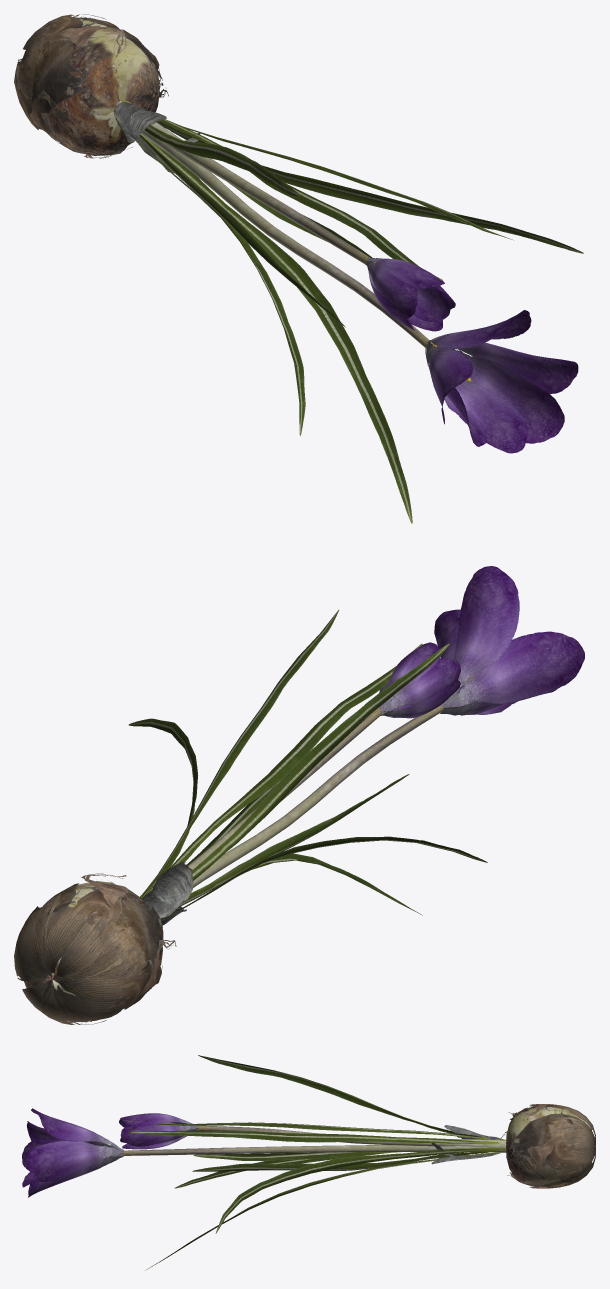
The picture shows the model from 3 angles, top to bottom: view 1: azimuth 30°, elevation 25°; view 2: azimuth 150°, elevation 25°; view 3: azimuth 270°, elevation 25°; orthographic projection. The views are drawn at different scales.
Visible parts, largest first — view 1: FL43Petal1, FL43Leaf2, FL43Roots1, FL43Branch1, FL43Leaf5, FL43Leaf6, FL43Leaf4; view 2: FL43Petal1, FL43Leaf2, FL43Leaf6, FL43Leaf5, FL43Branch1, FL43Leaf4, FL43Roots1; view 3: FL43Leaf2, FL43Petal1, FL43Branch1, FL43Leaf6, FL43Leaf5, FL43Roots1, FL43Leaf3, FL43Leaf4.
Boxes of the visible parts, <box> form: FL43Petal1: <box>365,257,578,453</box>; FL43Leaf2: <box>115,100,583,523</box>; FL43Roots1: <box>41,18,159,154</box>; FL43Branch1: <box>114,100,433,348</box>; FL43Leaf5: <box>18,17,163,155</box>; FL43Leaf6: <box>14,14,168,158</box>; FL43Leaf4: <box>115,102,166,139</box>; FL43Petal1: <box>378,566,584,718</box>; FL43Leaf2: <box>128,610,487,920</box>; FL43Leaf6: <box>14,873,176,1024</box>; FL43Leaf5: <box>28,883,163,1021</box>; FL43Branch1: <box>188,705,446,887</box>; FL43Leaf4: <box>141,862,193,918</box>; FL43Roots1: <box>24,881,162,995</box>; FL43Leaf2: <box>125,1055,506,1270</box>; FL43Petal1: <box>22,1108,198,1197</box>; FL43Branch1: <box>123,1125,506,1155</box>; FL43Leaf6: <box>500,1104,595,1188</box>; FL43Leaf5: <box>509,1106,592,1186</box>; FL43Roots1: <box>506,1106,590,1185</box>; FL43Leaf3: <box>431,1143,505,1164</box>; FL43Leaf4: <box>444,1125,503,1139</box>.
Bounding box in the file's own units: 0.0657 × 0.061 × 0.1602.
Materials: 9 (9 with a texture image).
